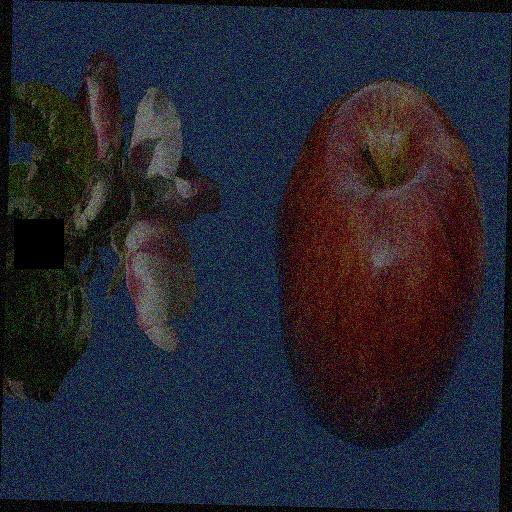red apple: (276, 76, 489, 449)
